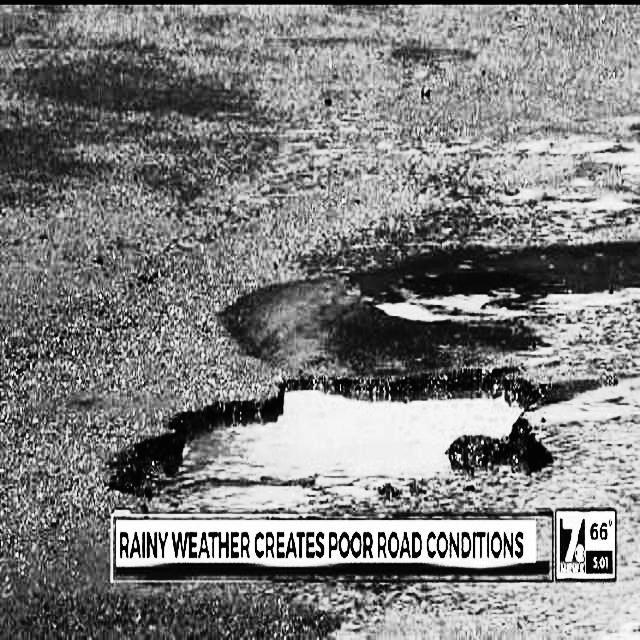Pothole: (109, 350, 554, 515)
